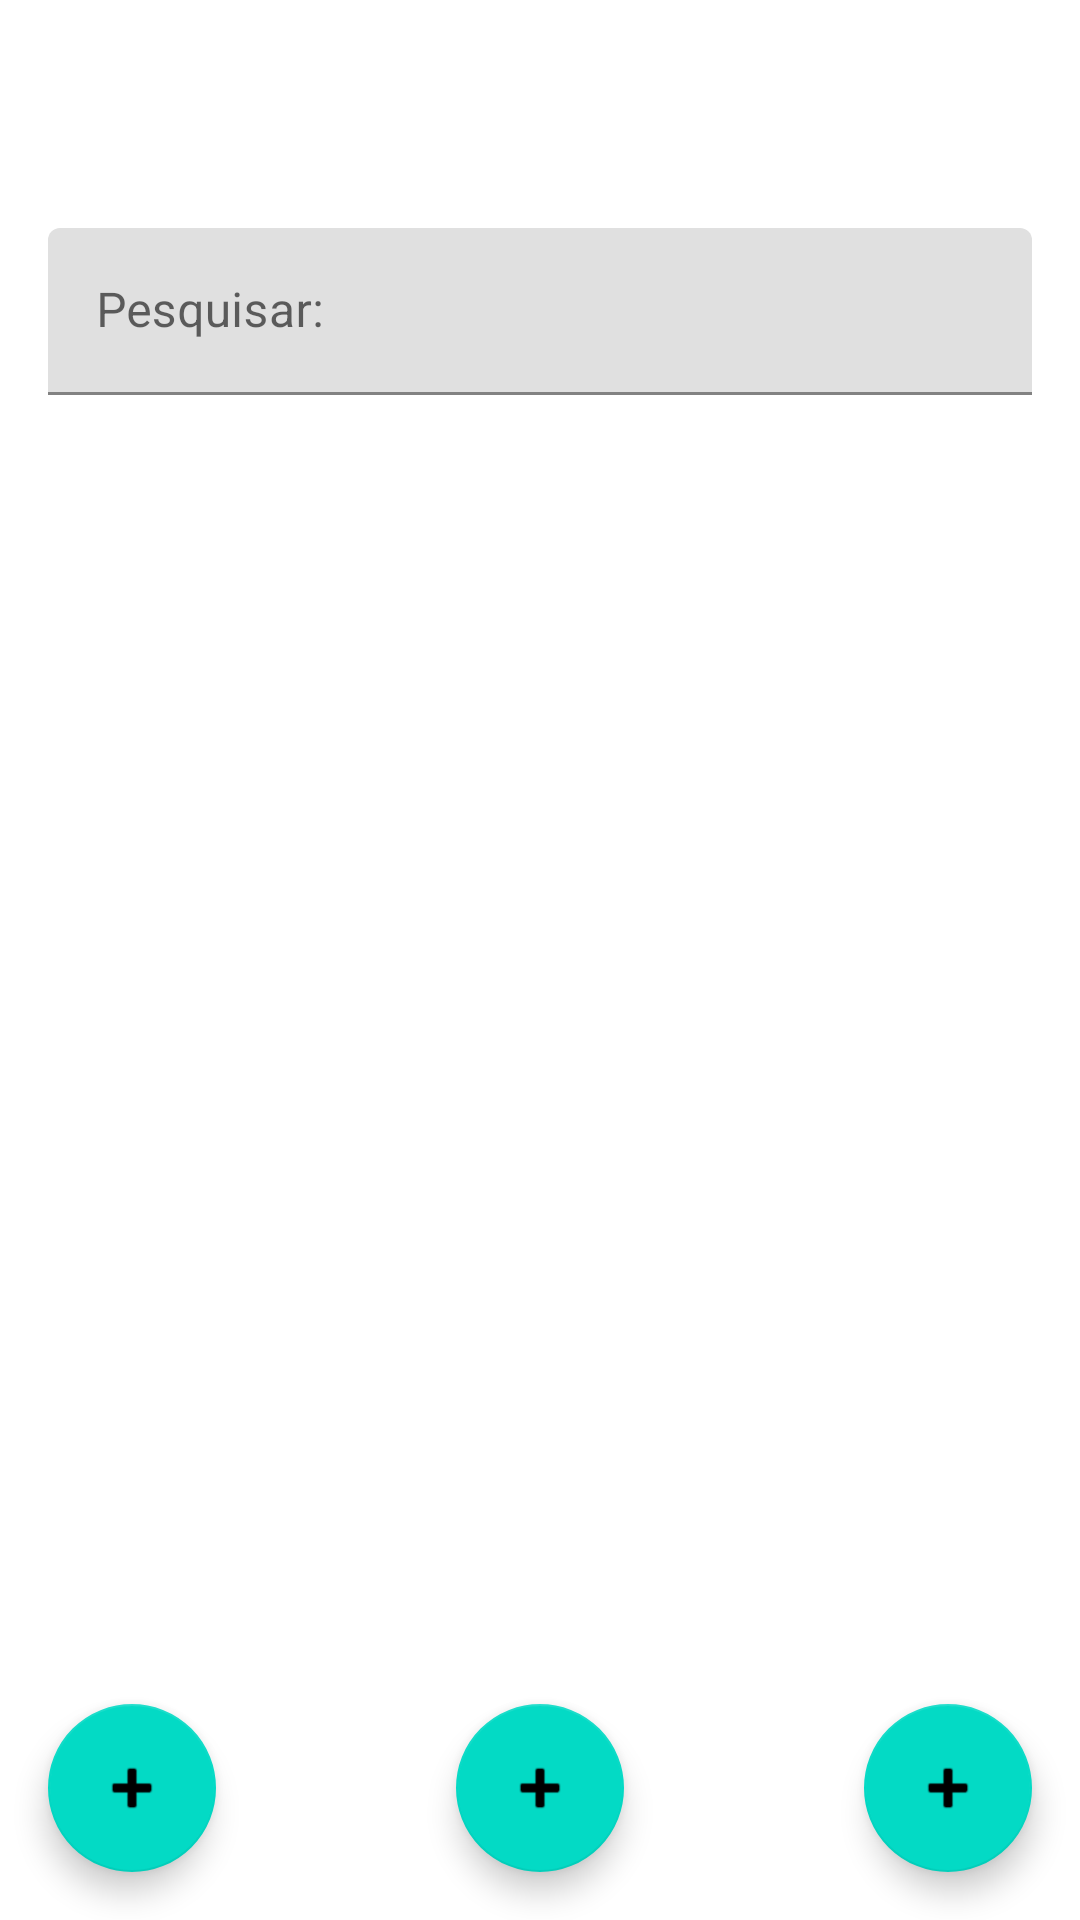

Where icons sit on this 1080px×1920px app screen, as (left=x1, top=y1, right=x2, bottom=y2):
add: (left=48, top=1704, right=216, bottom=1872), (left=456, top=1704, right=624, bottom=1872), (left=864, top=1704, right=1032, bottom=1872)
